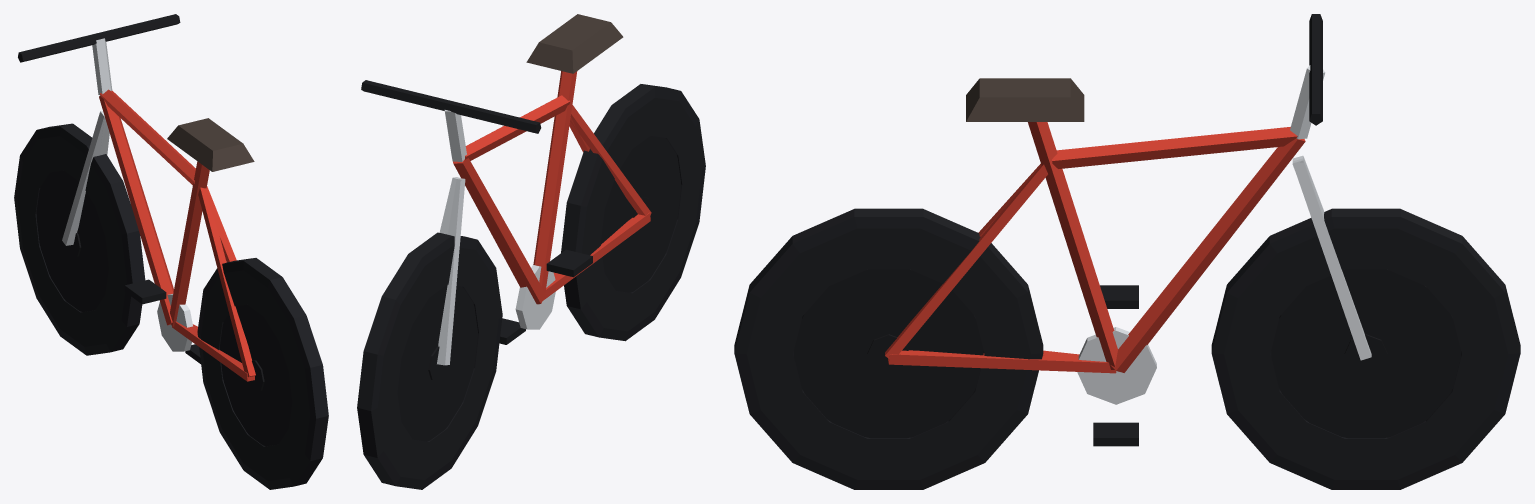
File: bicycle.glb
3 renders of one model, left to right at view 1: azimuth 30°, elevation 25°; view 2: azimuth 150°, elevation 25°; view 3: azimuth 270°, elevation 25°, orthographic. The views are drawn at different scales.
Parts seen in each view (by area): view 1: bicycle_wheel_f, bicycle_wheel_r, bicycle; view 2: bicycle_wheel_f, bicycle_wheel_r, bicycle; view 3: bicycle_wheel_f, bicycle_wheel_r, bicycle.
Boxes of the visible parts, x1,y1,x2,y2 form: bicycle_wheel_f: (14, 123, 145, 355); bicycle_wheel_r: (197, 258, 328, 489); bicycle: (18, 14, 255, 381); bicycle_wheel_f: (357, 232, 502, 489); bicycle_wheel_r: (561, 84, 705, 341); bicycle: (361, 14, 651, 365); bicycle_wheel_f: (1211, 208, 1520, 489); bicycle_wheel_r: (734, 208, 1043, 489); bicycle: (885, 14, 1371, 446).
Bounding box in the file's own units: 0.52 × 1.02 × 1.73.
